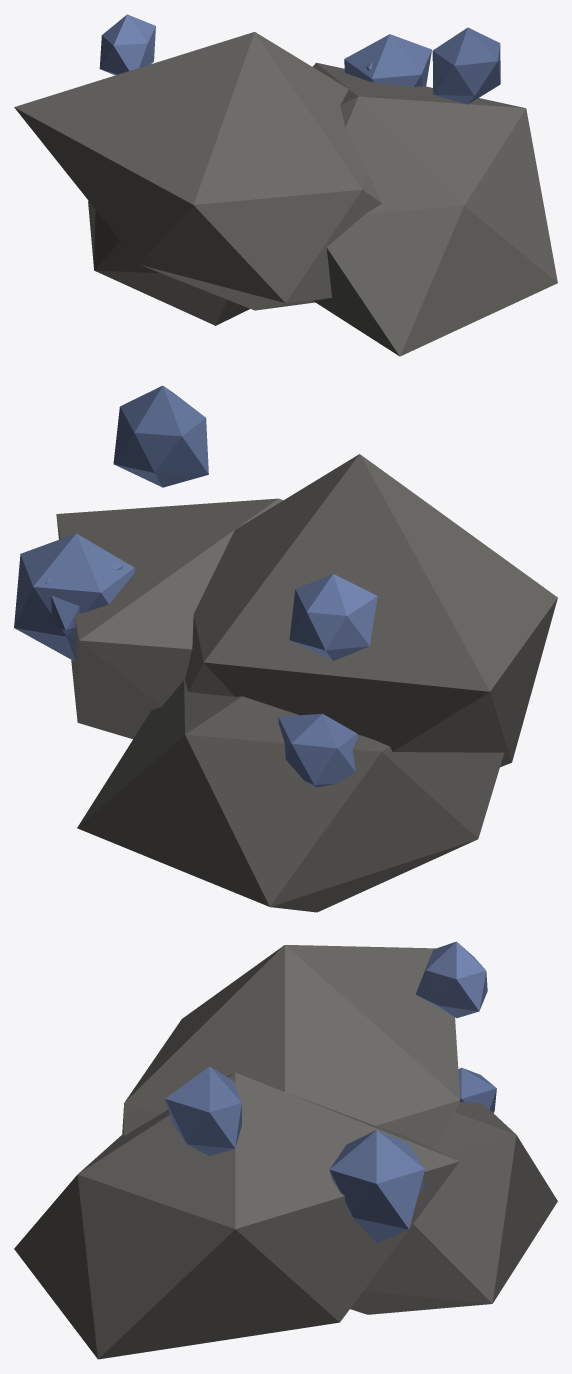
Rendered from mithril_rock.glb.
3 views of the same model, one above another, from view 1: azimuth 30°, elevation 25°; view 2: azimuth 150°, elevation 25°; view 3: azimuth 270°, elevation 25° (orthographic). The views are drawn at different scales.
Visible parts, largest first — view 1: mithril_rock; view 2: mithril_rock; view 3: mithril_rock.
Boxes of the visible parts, box(x1,y1,x2,y2) form: mithril_rock: box(14, 14, 557, 356); mithril_rock: box(14, 385, 557, 912); mithril_rock: box(14, 941, 557, 1359).
Bounding box in the file's own units: 1.48 × 1.07 × 1.42.
1 material, 1 textured.
